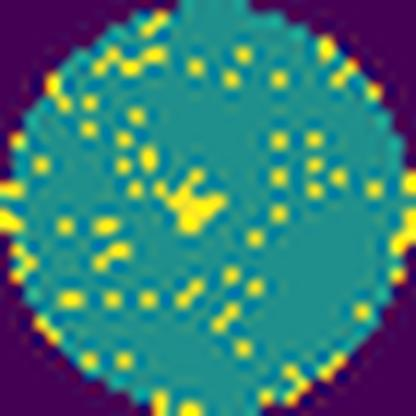Center: (157, 170, 231, 237)
